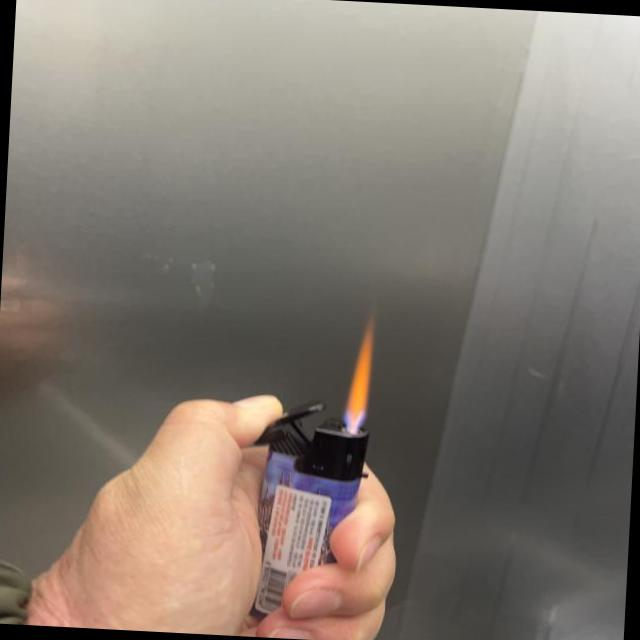Fire: (340, 323, 376, 429)
